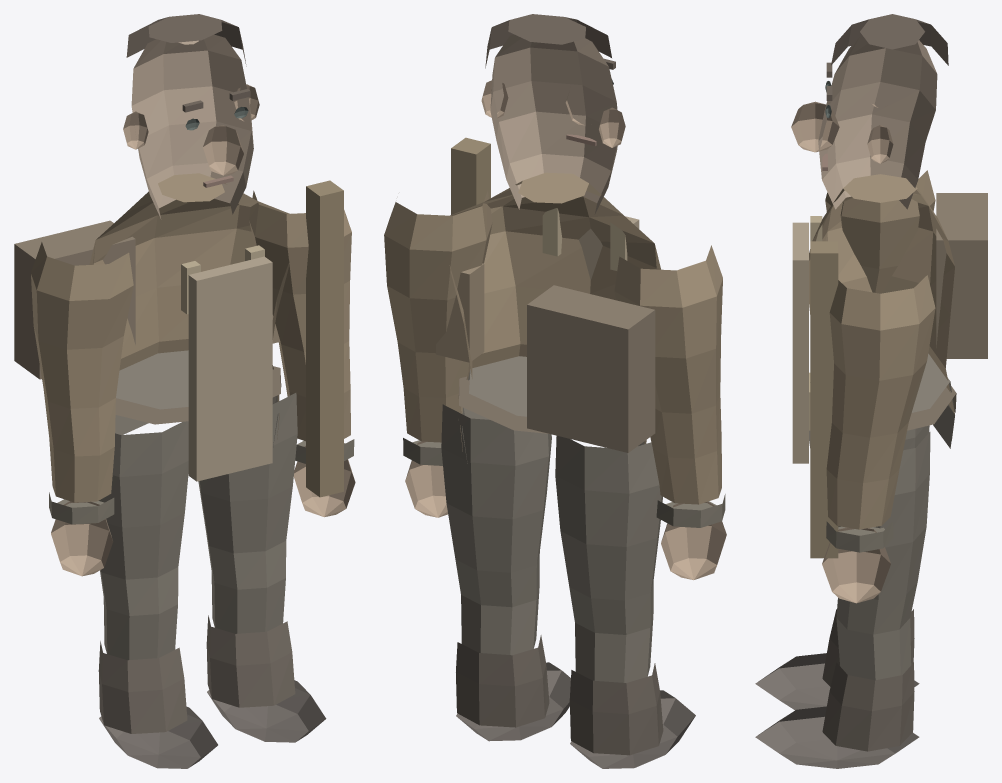
File: builder_1000_2.glb
3 renders of one model, left to right at view 1: azimuth 30°, elevation 25°; view 2: azimuth 150°, elevation 25°; view 3: azimuth 270°, elevation 25°, orthographic. The views are drawn at different scales.
Visible parts, largest first — view 1: leftArm_0, body_7, leftLeg_0, body_0, rightLeg_0, head_0, rightArm_3, rightArm_0, leftLeg_1, rightLeg_1, body_8, body_1 (+9 smaller); view 2: leftLeg_0, rightLeg_0, body_8, leftArm_0, body_0, head_0, rightArm_0, leftLeg_1, rightLeg_1, body_9, leftArm_2, head_9 (+12 smaller); view 3: rightArm_0, head_0, rightLeg_0, body_0, body_8, rightArm_3, rightLeg_1, leftArm_0, rightLeg_2, body_7, rightArm_2, head_9 (+7 smaller).
Boxes of the visible parts, left/top/right/bottom form: leftArm_0: left=31, top=242, right=133, bottom=502; body_7: left=188, top=256, right=272, bottom=481; leftLeg_0: left=98, top=421, right=188, bottom=660; body_0: left=89, top=173, right=289, bottom=439; rightLeg_0: left=198, top=393, right=297, bottom=633; head_0: left=131, top=34, right=253, bottom=219; rightArm_3: left=306, top=180, right=343, bottom=497; rightArm_0: left=249, top=190, right=351, bottom=441; leftLeg_1: left=98, top=641, right=187, bottom=733; rightLeg_1: left=206, top=615, right=295, bottom=707; body_8: left=14, top=220, right=135, bottom=379; body_1: left=115, top=350, right=278, bottom=447; leftLeg_0: left=555, top=436, right=662, bottom=682; rightLeg_0: left=441, top=404, right=551, bottom=655; body_8: left=527, top=285, right=655, bottom=452; leftArm_0: left=614, top=245, right=722, bottom=504; body_0: left=449, top=172, right=660, bottom=451; head_0: left=490, top=34, right=617, bottom=214; rightArm_0: left=384, top=190, right=492, bottom=442; leftLeg_1: left=569, top=663, right=663, bottom=755; rightLeg_1: left=456, top=635, right=549, bottom=727; body_9: left=436, top=263, right=484, bottom=362; leftArm_2: left=661, top=501, right=726, bottom=580; head_9: left=485, top=14, right=611, bottom=68; rightArm_0: left=826, top=275, right=935, bottom=529; head_0: left=818, top=35, right=937, bottom=209; rightLeg_0: left=836, top=432, right=930, bottom=680; body_0: left=809, top=174, right=954, bottom=440; body_8: left=936, top=193, right=987, bottom=358; rightArm_3: left=810, top=241, right=838, bottom=558; rightLeg_1: left=822, top=662, right=914, bottom=751; leftArm_0: left=825, top=170, right=935, bottom=293; rightLeg_2: left=755, top=706, right=919, bottom=768; body_7: left=792, top=222, right=808, bottom=463; rightArm_2: left=822, top=527, right=890, bottom=603; head_9: left=831, top=14, right=948, bottom=65.
Bounding box in the file's own units: 0.774 × 1.66 × 0.498.
